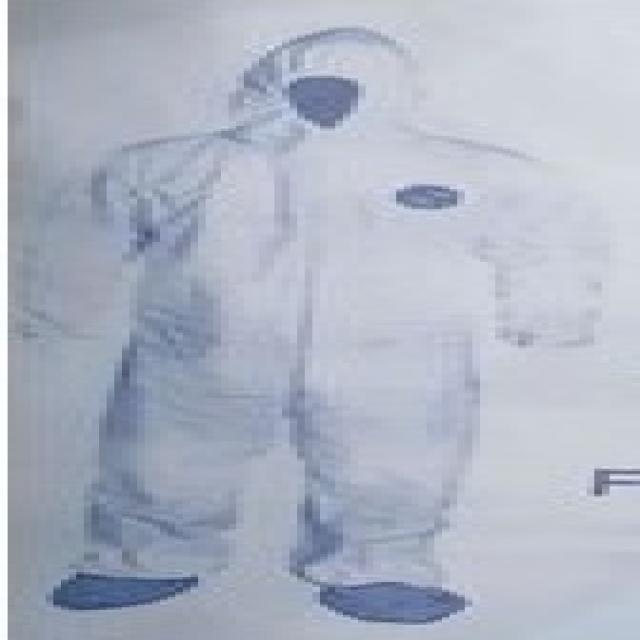Coverall: (22, 2, 617, 640)
